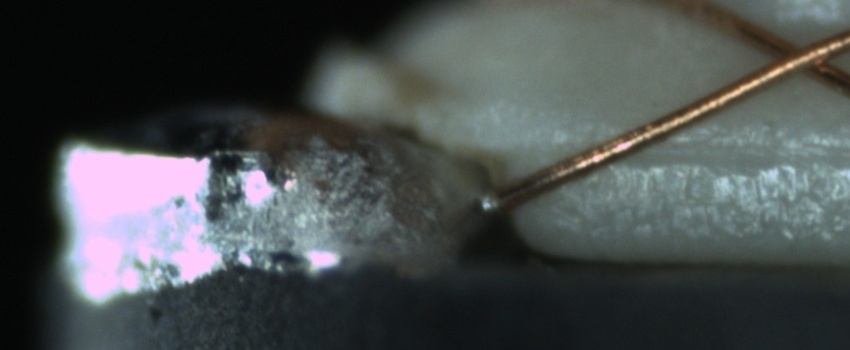CL: (747, 24, 847, 87)
DL: (575, 117, 844, 184)
